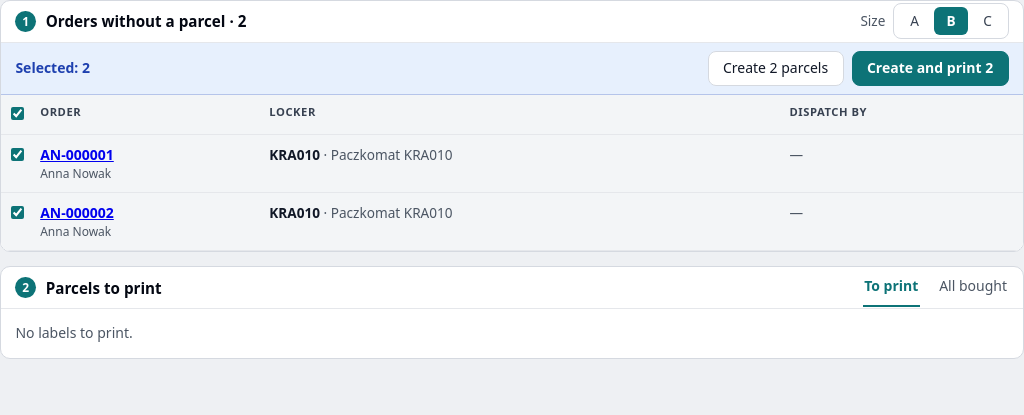
Test: InpostLabelsPanel › makes parcels only for the orders left ticked, in the size chosen
Check: the link "AN-000001" is shown, box [40,145,114,164]
Click the checkbox named "AN-000002": [18, 212] box [11,206,24,219]
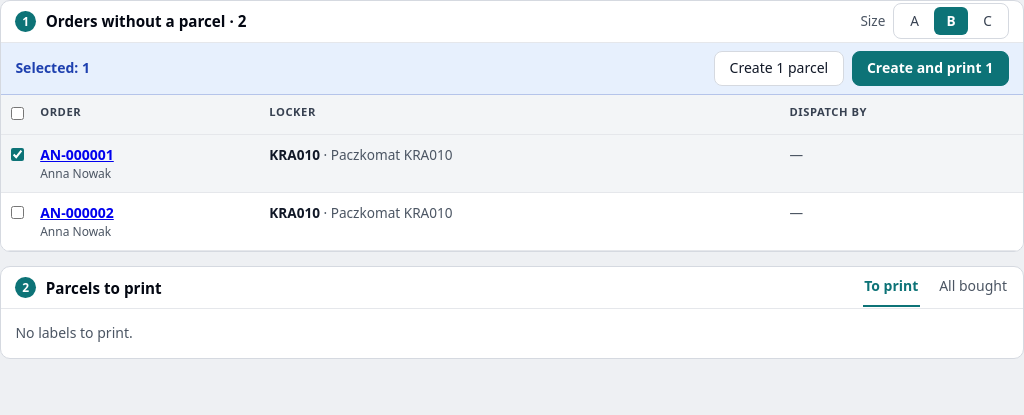
Click the radio button labelled "C": [988, 21] box [970,7,1005,35]
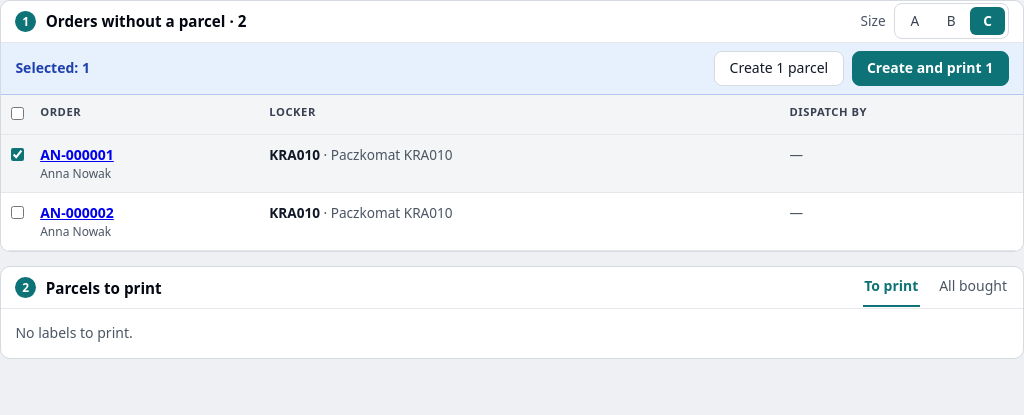
Click the button "Create 1 parcel": [779, 68] box [714,51,844,86]
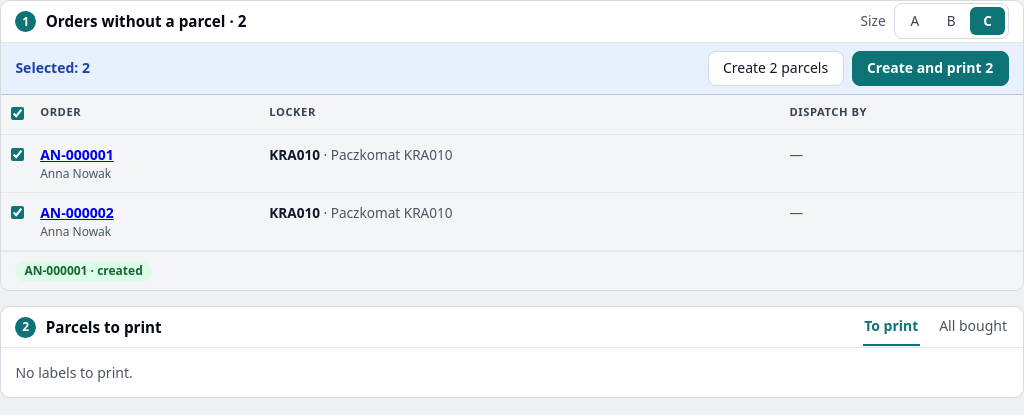
Check: the list "AN-000001 · created" is shown, box [1,251,1023,290]
